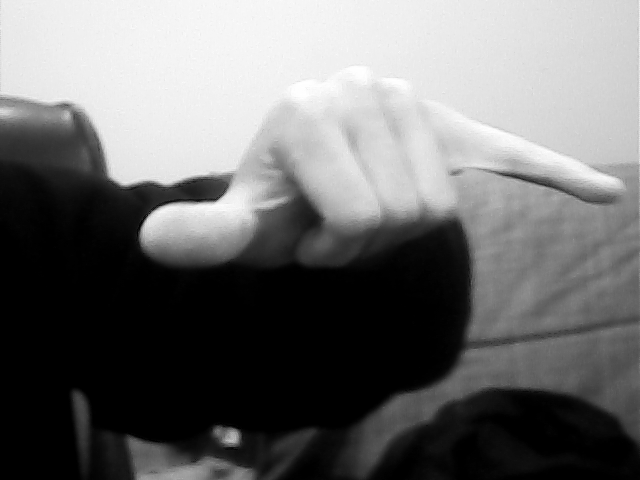aloha: (139, 61, 629, 279)
